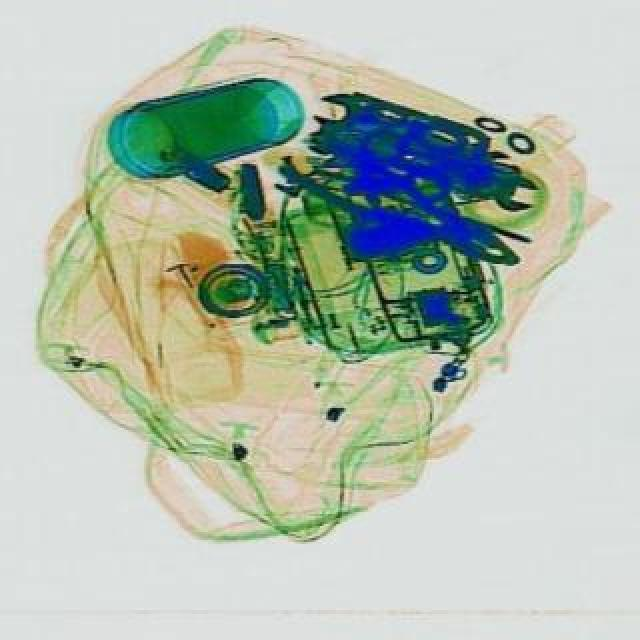scissors: (400, 134, 546, 222), (318, 92, 420, 148)
wrench: (278, 122, 538, 296)
